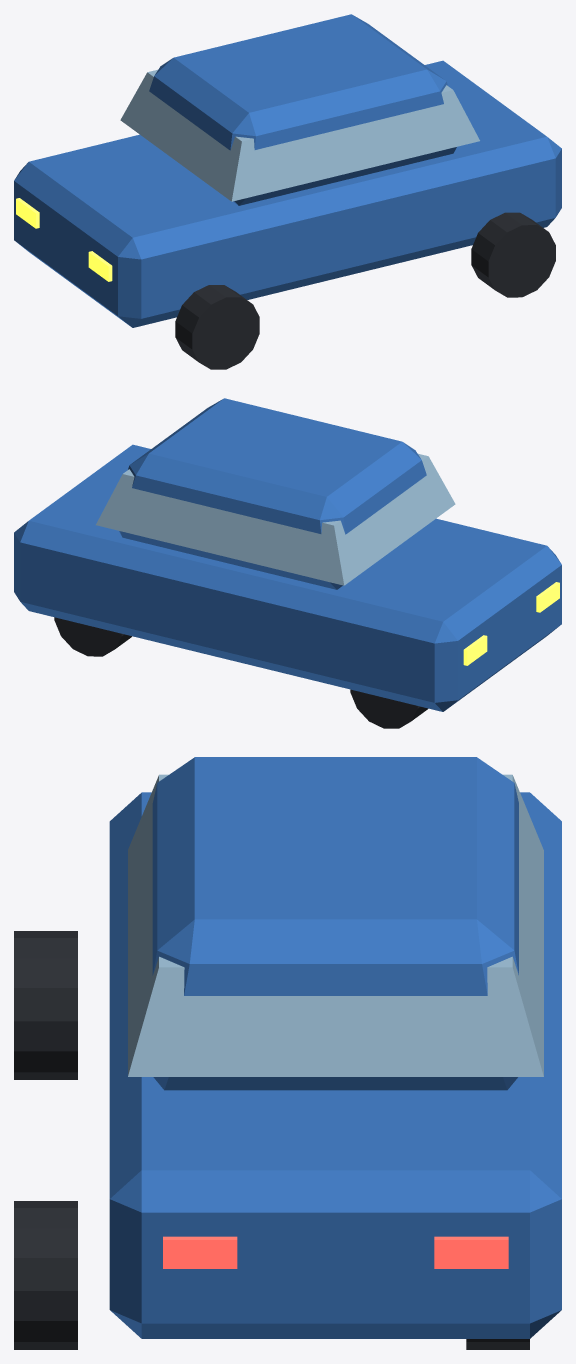
Rendered from car.glb.
3 renders of one model, top to bottom at view 1: azimuth 30°, elevation 25°; view 2: azimuth 150°, elevation 25°; view 3: azimuth 270°, elevation 25°, orthographic. The views are drawn at different scales.
Visible parts, largest first — view 1: car_mesh; view 2: car_mesh; view 3: car_mesh.
Boxes of the visible parts, <box> form: car_mesh: <box>14,14,561,369</box>; car_mesh: <box>14,398,561,728</box>; car_mesh: <box>14,757,561,1349</box>.
Bounding box in the file's own units: 1.83 × 0.79 × 1.03.
